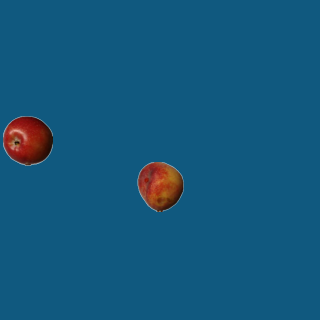Apple Braeburn: (2, 115, 52, 165)
Peach: (135, 161, 185, 211)
